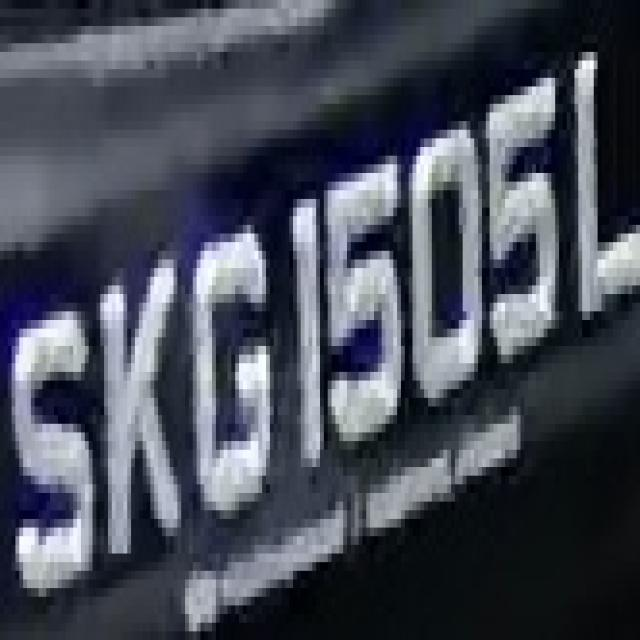0: (397, 130, 494, 432)
1: (278, 173, 336, 510)
5: (316, 164, 409, 467), (474, 69, 559, 389)
G: (193, 208, 274, 536)
K: (93, 234, 181, 596)
L: (563, 17, 640, 303)
S: (12, 259, 92, 640)
